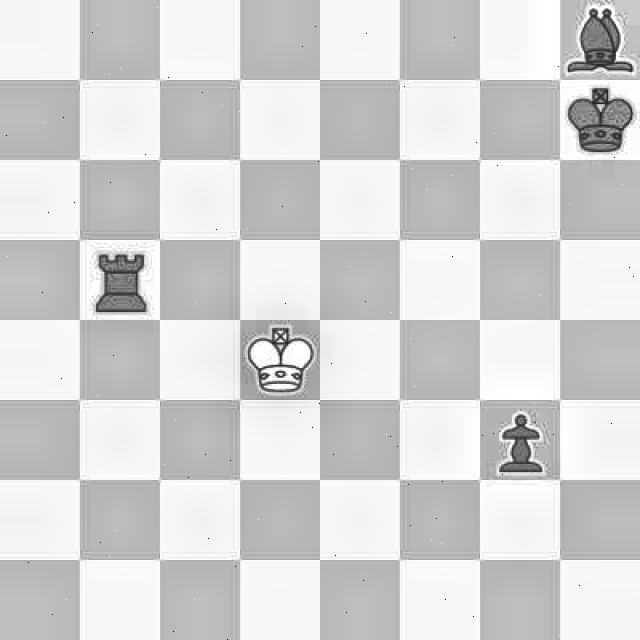black bishop: (572, 1, 632, 80)
black pawn: (478, 395, 558, 477)
black rook: (82, 243, 156, 316)
white king: (240, 330, 316, 398)
